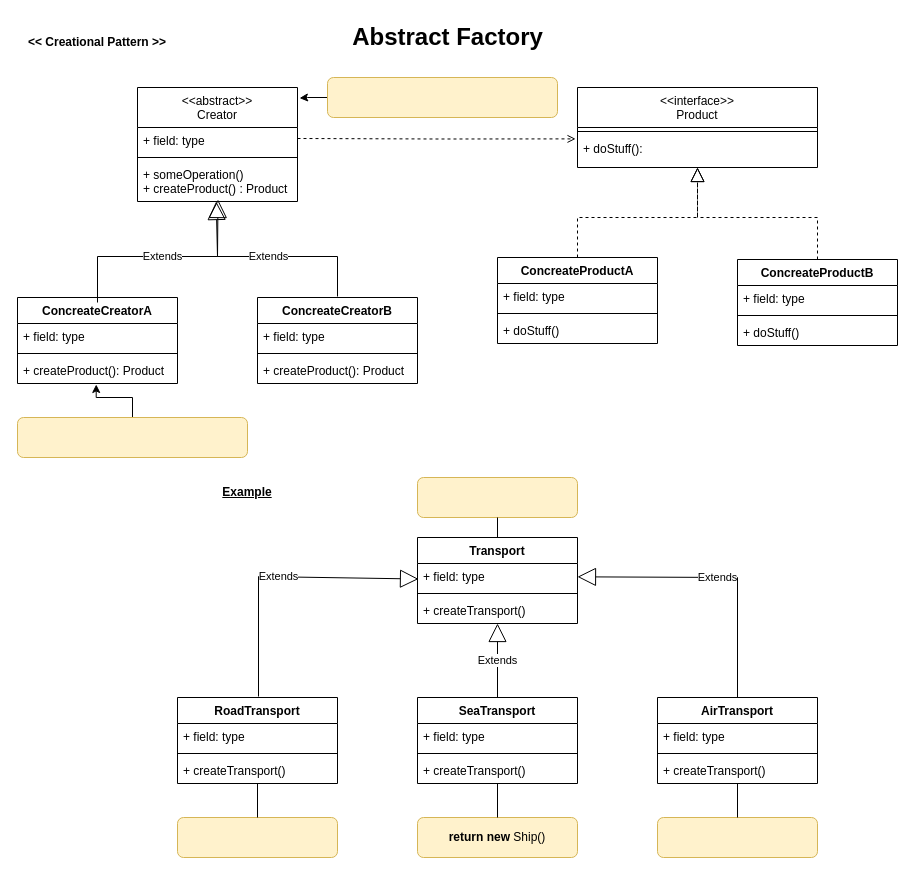
Image size: 915x875. Some labels were removed from this diagram. Each missing label, with the centre of its shape:
Product p = createProduct() p.doStuff(): (442,97)
return new AirCargo(): (737,837)
return new ConcreateProductA(): (132,437)
return new Truck(): (257,837)
Transport t = createTransport(): (497,497)
